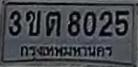0: (83, 11, 95, 34)
2: (99, 10, 112, 36)
3: (8, 10, 20, 35)
5: (114, 10, 128, 35)
8: (67, 10, 80, 35)
A02: (25, 10, 40, 34)
A21: (45, 10, 60, 35)
BKK: (20, 43, 113, 59)
